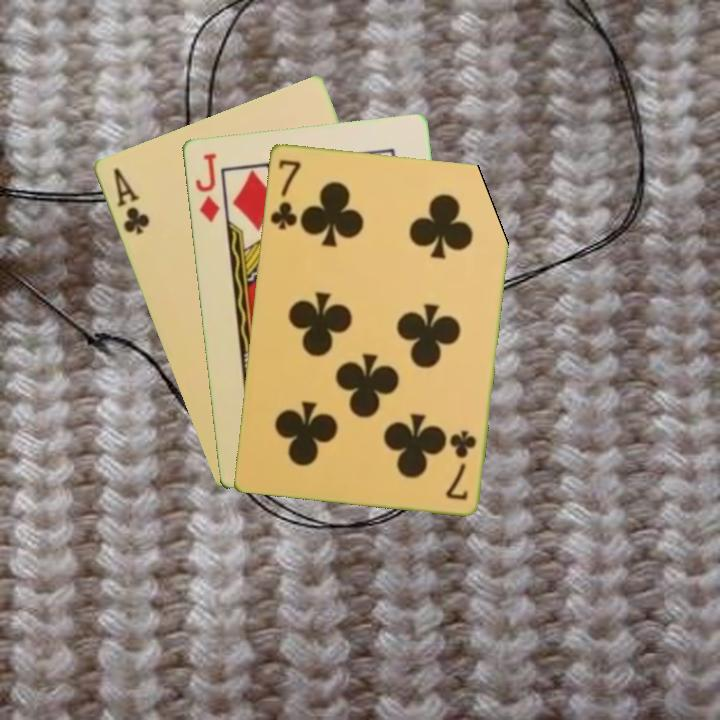7c: (442, 426, 479, 503), (267, 155, 303, 232)
Ac: (109, 164, 152, 238)
Jd: (191, 149, 222, 225)
